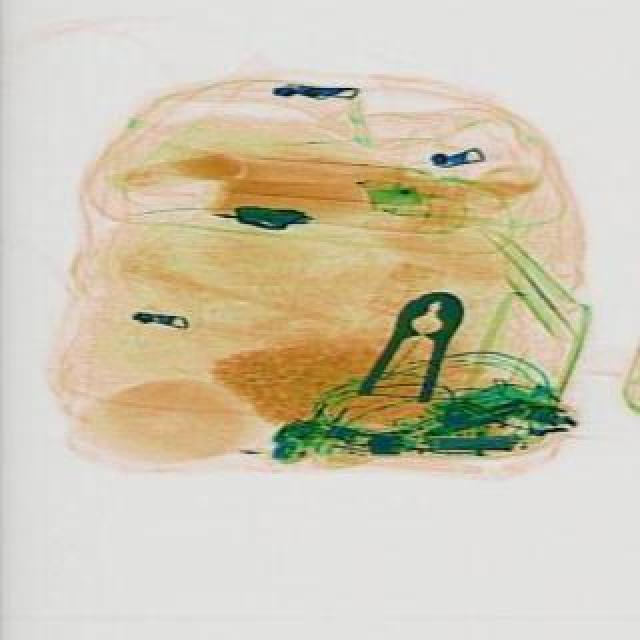wrench: (350, 282, 474, 424)
